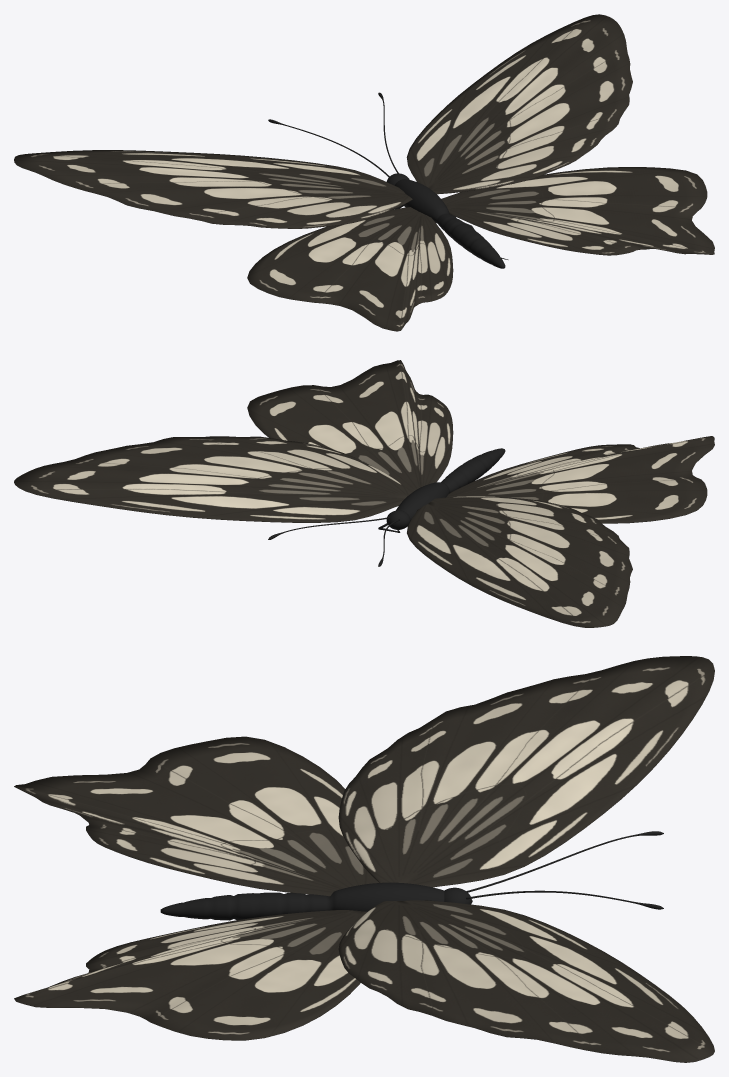
The model's file is butterfly.glb.
3 views of the same model, one above another, from view 1: azimuth 30°, elevation 25°; view 2: azimuth 150°, elevation 25°; view 3: azimuth 270°, elevation 25° (orthographic). The views are drawn at different scales.
Visible parts, largest first — view 1: Right_Forewing, Left_Forewing, Right_Hindwing, Left_Hindwing, Body; view 2: Right_Forewing, Left_Forewing, Right_Hindwing, Left_Hindwing, Body; view 3: Left_Forewing, Right_Forewing, Left_Hindwing, Right_Hindwing, Body.
Part boxes in pixels (x1,y1,x2,y2): Right_Forewing: [406, 14, 632, 194]; Left_Forewing: [14, 150, 412, 228]; Right_Hindwing: [441, 167, 714, 255]; Left_Hindwing: [247, 207, 453, 331]; Body: [394, 179, 508, 268]; Right_Forewing: [14, 436, 411, 522]; Left_Forewing: [407, 496, 632, 627]; Right_Hindwing: [247, 360, 453, 492]; Left_Hindwing: [446, 436, 714, 523]; Body: [378, 448, 505, 532]; Left_Forewing: [338, 656, 714, 887]; Right_Forewing: [338, 900, 714, 1062]; Left_Hindwing: [14, 736, 378, 896]; Right_Hindwing: [14, 910, 366, 1040]; Body: [160, 882, 444, 920].
Bounding box in the file's own units: 0.1066 × 0.0121 × 0.0777.
2 materials, 1 textured.
